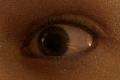eye: (37, 26, 69, 58)
